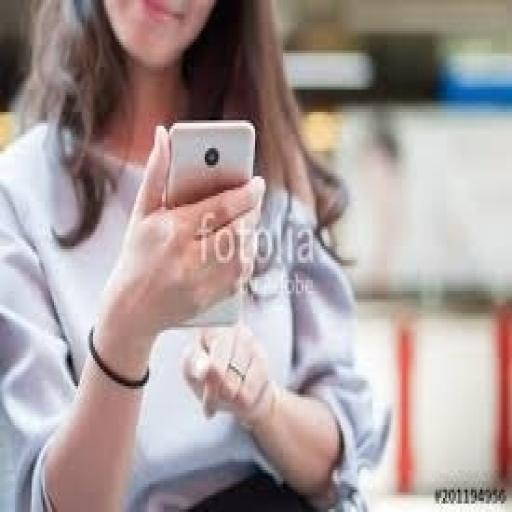texting: (0, 0, 385, 509)
